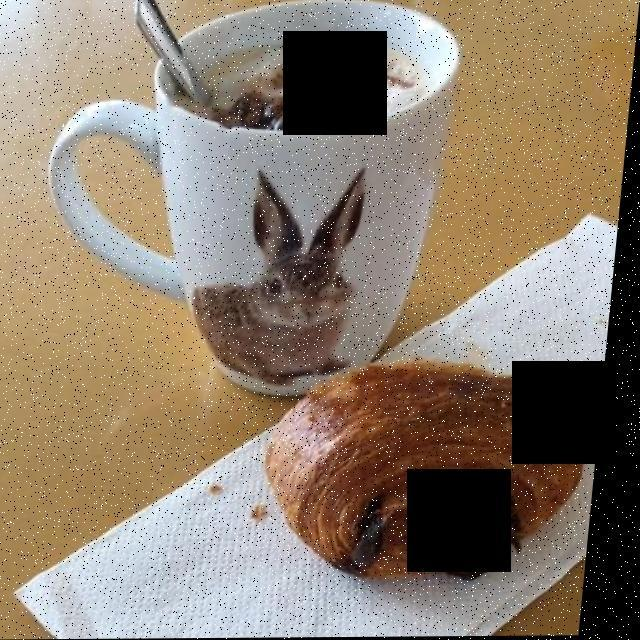cappuccino: (206, 37, 413, 152)
croissant: (275, 361, 592, 576)
